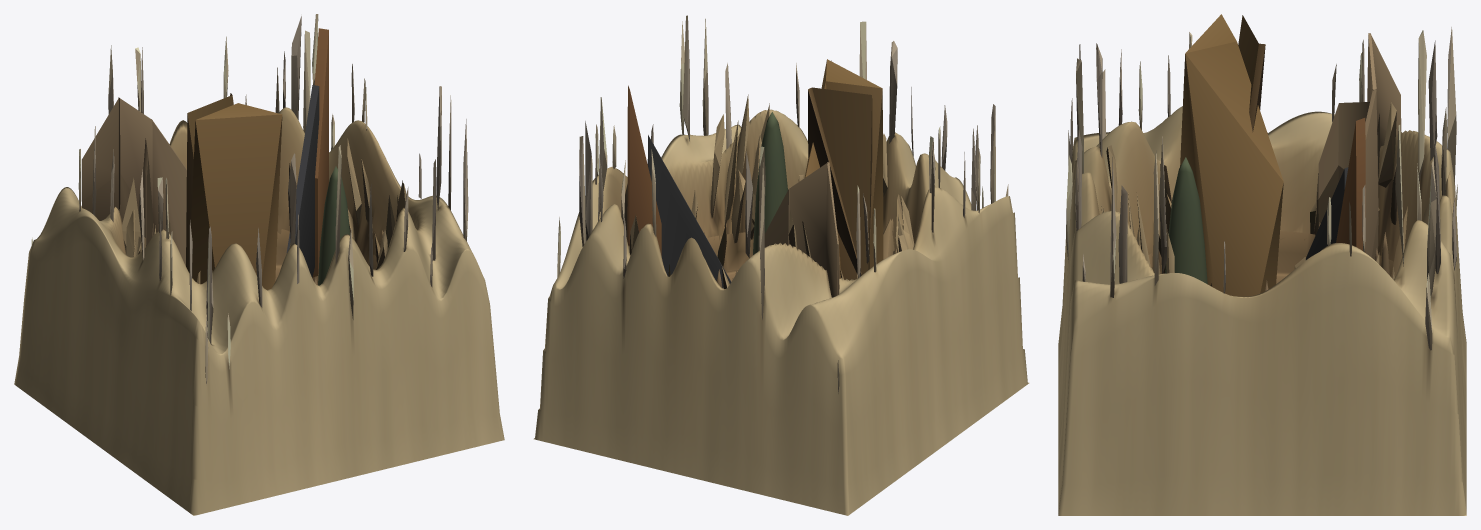
Rendered from quicksand.glb.
3 renders of one model, left to right at view 1: azimuth 30°, elevation 25°; view 2: azimuth 150°, elevation 25°; view 3: azimuth 270°, elevation 25°, orthographic. The views are drawn at different scales.
Parts seen in each view (by area): view 1: quicksand; view 2: quicksand; view 3: quicksand.
Boxes of the visible parts, bbox=[...] form: quicksand: bbox=[14, 14, 504, 515]; quicksand: bbox=[533, 15, 1029, 515]; quicksand: bbox=[1058, 14, 1466, 515].
Size of the model in its own units: 1 by 1 by 1.
